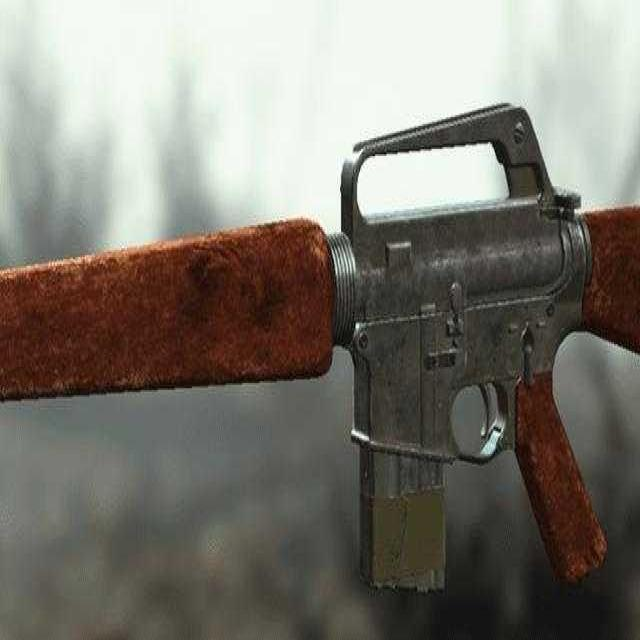heavyweapon: (1, 58, 640, 639)
